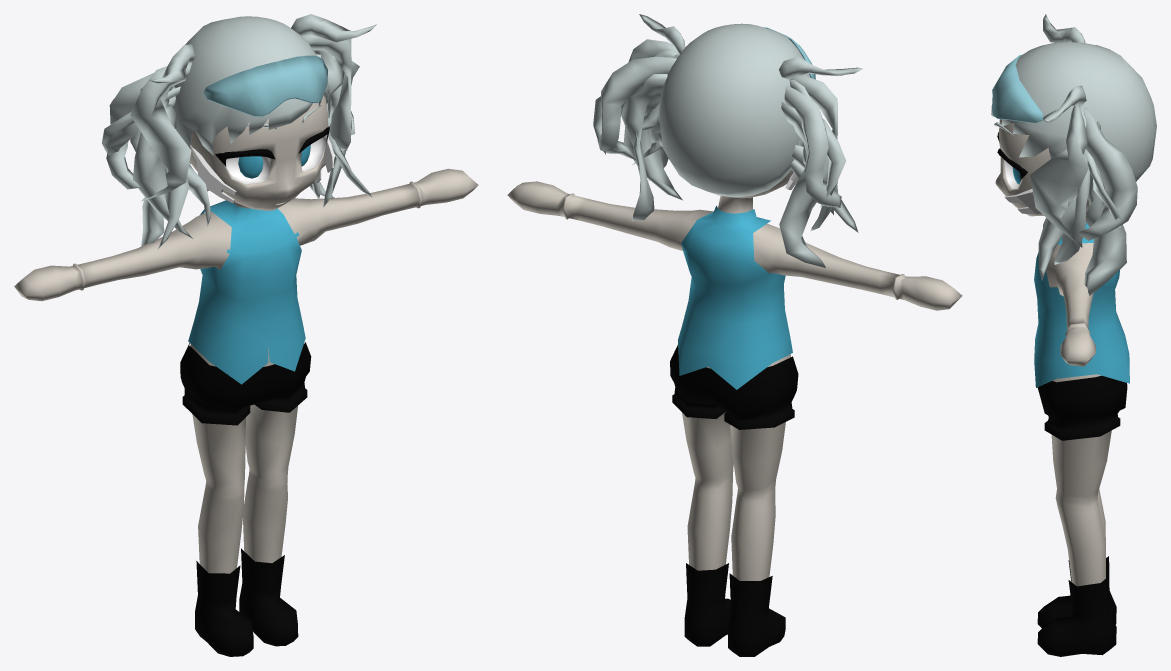
File: NOI_base.glb
The picture shows the model from 3 angles, left to right: view 1: azimuth 30°, elevation 25°; view 2: azimuth 150°, elevation 25°; view 3: azimuth 270°, elevation 25°; orthographic projection. The views are drawn at different scales.
Visible parts, largest first — view 1: 球.000, 球.001, 立方体.001; view 2: 球.000, 球.001; view 3: 球.000, 球.001, 立方体.001.
Boxes of the visible parts, left/top/right/bottom form: 球.000: left=14, top=16, right=478, bottom=656; 球.001: left=102, top=14, right=376, bottom=249; 立方体.001: left=190, top=137, right=333, bottom=203; 球.000: left=507, top=23, right=962, bottom=656; 球.001: left=593, top=14, right=862, bottom=268; 球.000: left=991, top=42, right=1156, bottom=656; 球.001: left=994, top=14, right=1137, bottom=295; 立方体.001: left=1004, top=189, right=1041, bottom=214.
Bounding box in the file's own units: 6.23 × 8.11 × 2.07.
